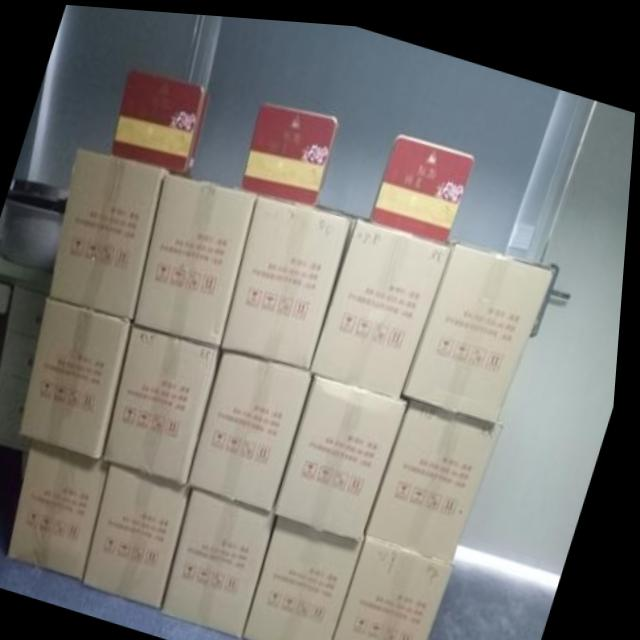box: (408, 236, 557, 414), (314, 211, 454, 393), (225, 189, 355, 364), (372, 391, 509, 555), (280, 370, 414, 536), (138, 171, 259, 344), (52, 148, 172, 317), (194, 345, 318, 506), (110, 323, 224, 480), (26, 296, 137, 456), (170, 484, 282, 634), (251, 511, 373, 640), (92, 460, 196, 606), (15, 438, 117, 577), (340, 529, 463, 640), (372, 127, 477, 235), (112, 67, 211, 174), (243, 99, 339, 201)
